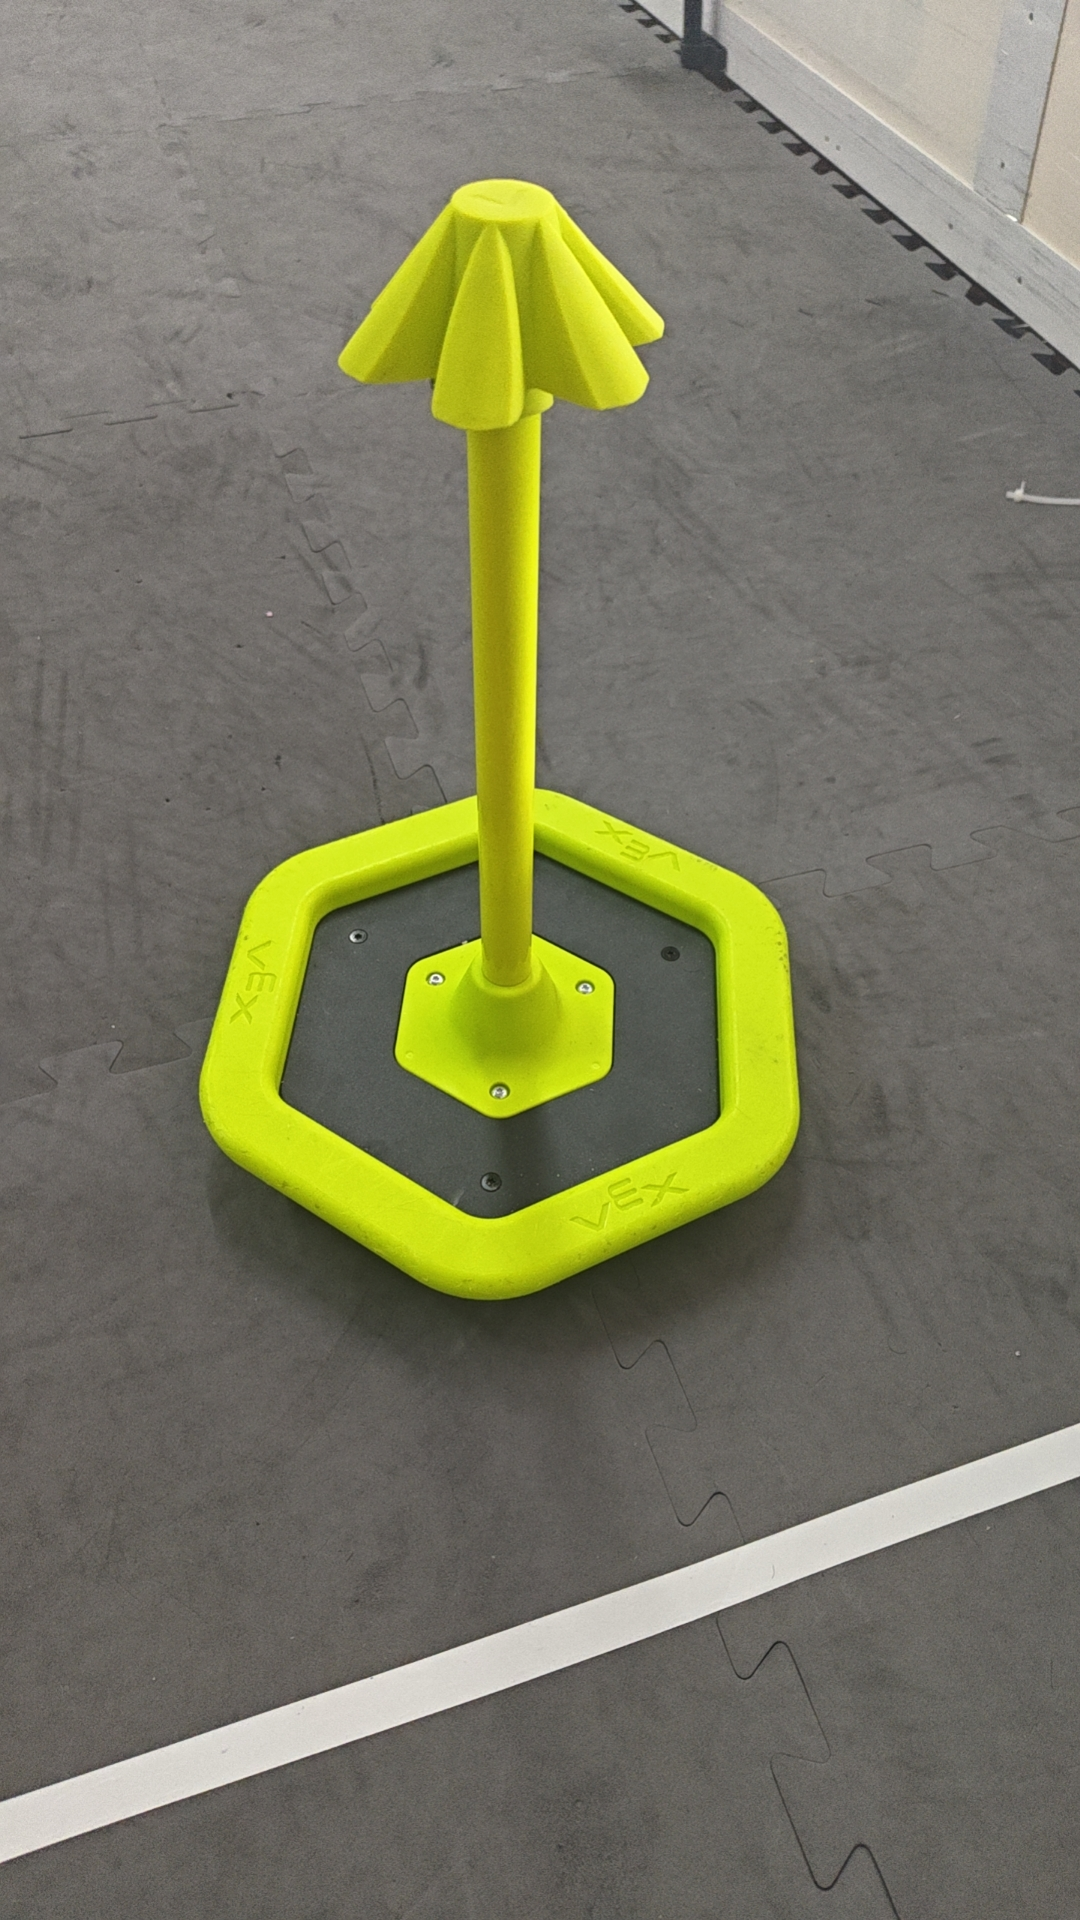score: (222, 164, 811, 1298)
